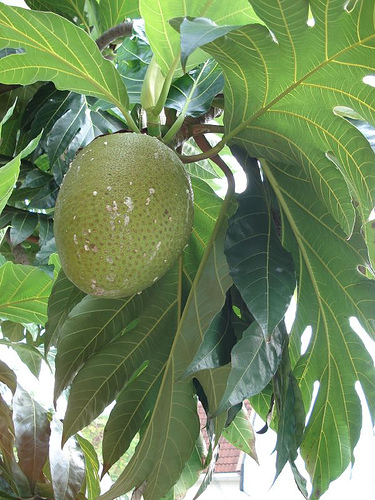jackfruit: (51, 131, 195, 301)
